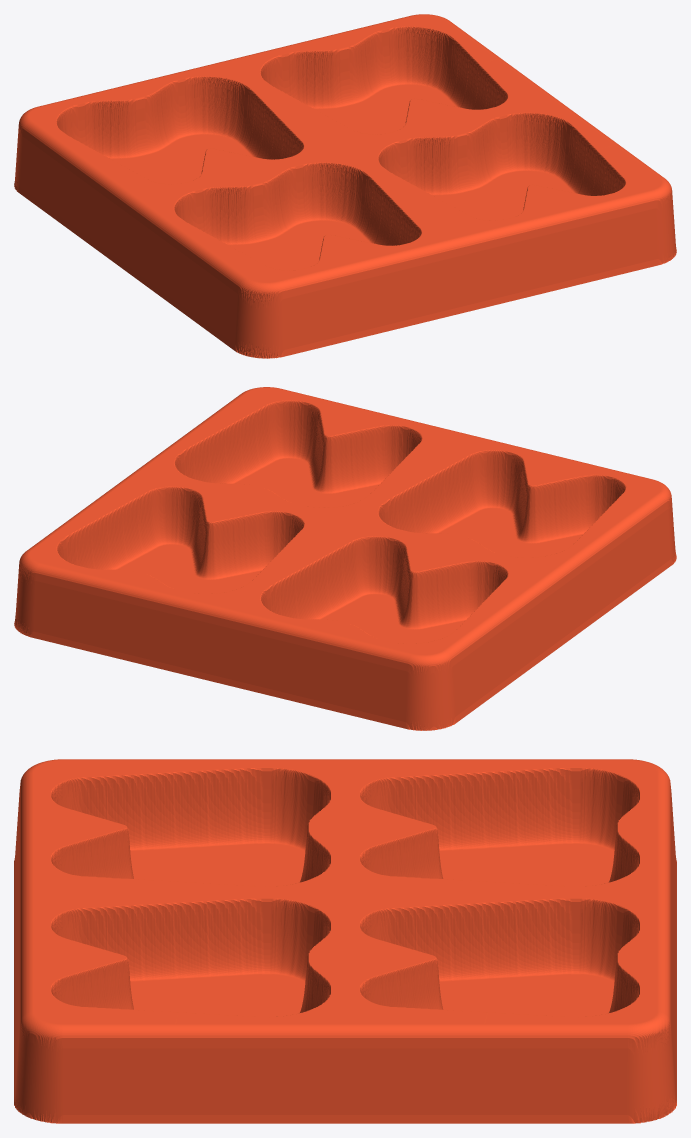
The model's file is mold.glb.
The picture shows the model from 3 angles, top to bottom: view 1: azimuth 30°, elevation 25°; view 2: azimuth 150°, elevation 25°; view 3: azimuth 270°, elevation 25°; orthographic projection. The views are drawn at different scales.
Parts seen in each view (by area): view 1: geometry_0; view 2: geometry_0; view 3: geometry_0.
Boxes of the visible parts, x1,y1,x2,y2 form: geometry_0: (14, 14, 676, 358); geometry_0: (14, 387, 676, 730); geometry_0: (14, 759, 676, 1123).
Size of the model in its own units: 0.1218 by 0.0185 by 0.1218.
